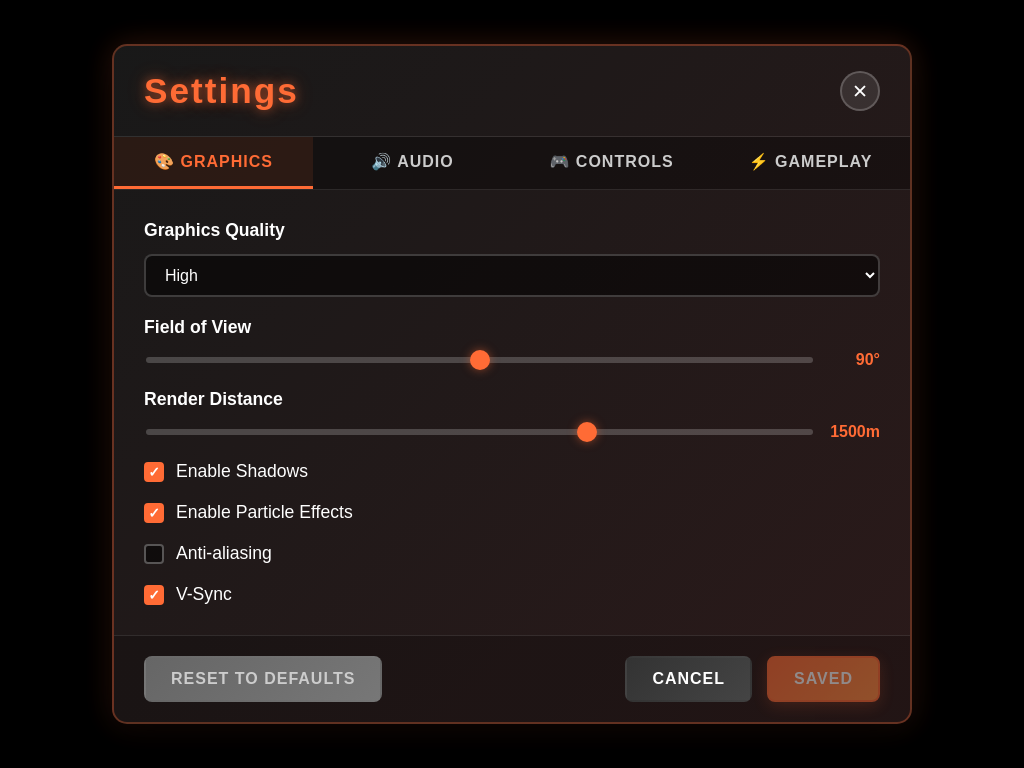
SettingsMenu Component › displays initial gameplay settings correctly
# Switch to gameplay tab
Click the button "⚡ Gameplay". click: point(810, 163)
box: [711,137,910,189]
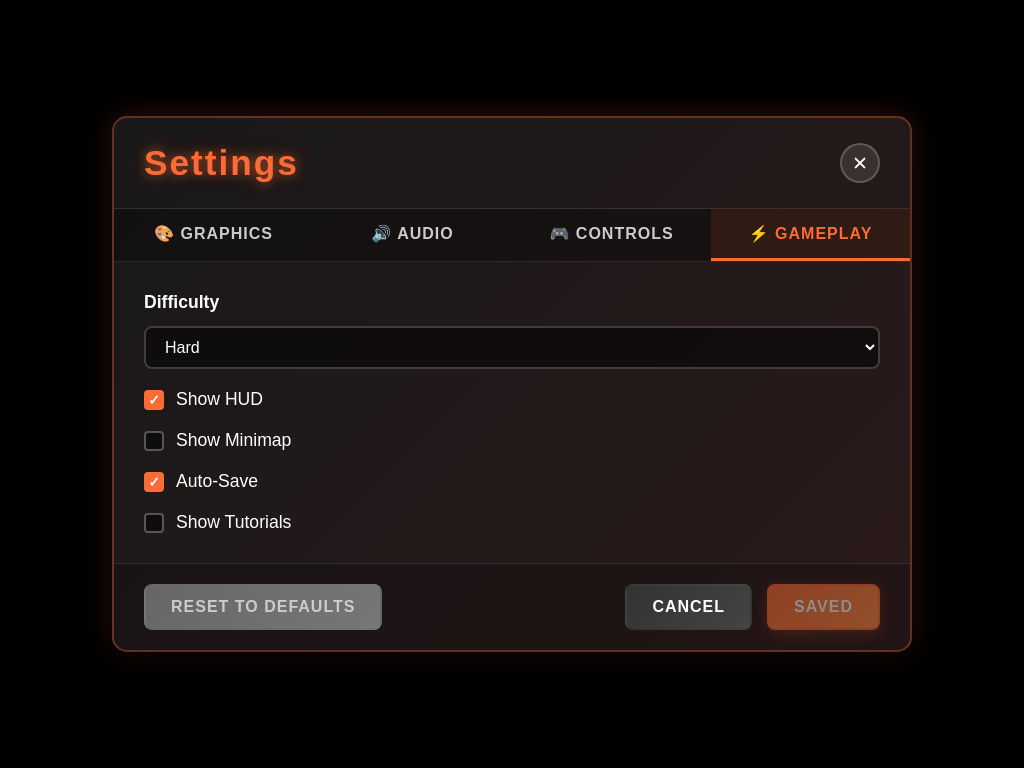
Check: the checkbox labelled "Show HUD" is checked, box [144,389,263,410]
Check: the dropdown labelled "Difficulty" shows "Hard", box [144,326,880,369]
Check: the checkbox labelled "Show Minimap" is not checked, box [144,430,291,451]
